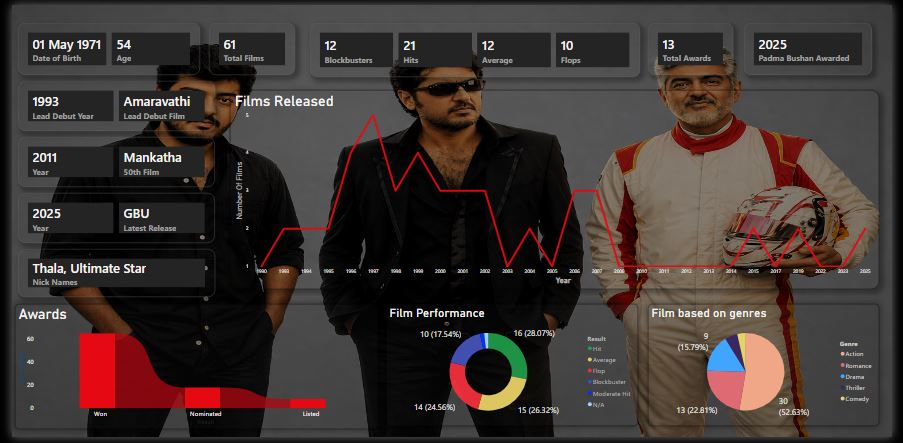

This screenshot's page, from the dashboard's own definition file:
{"tool":"powerbi","page":{"name":"Page 1","canvas":[2200,1080],"ordinal":0},"visuals":[{"type":"cardVisual","fields":{"Data":["Min(Bio.Lead Debut Year)","Min(Bio.Lead Debut Film)"]},"box":[15,190,492.5,125],"z":0},{"type":"cardVisual","fields":{"Data":["Min(Bio.Nicknames)"]},"box":[15,610,492.5,120],"z":1000},{"type":"cardVisual","fields":{"Data":["Sum(Bio.Total Films (approx))"]},"box":[492.5,45,215,130],"z":2000},{"type":"lineChart","title":"Films Released","fields":{"Category":["Filmography.Year"],"Y":["CountNonNull(Filmography.Film_Number)"]},"box":[545,212.5,1622.5,497.5],"z":3000},{"type":"pieChart","title":"Film based on genres","fields":{"Category":["Filmography.Genre"],"Y":["CountNonNull(Filmography.Film_Number)"]},"box":[1590,747.5,577.5,305],"z":4000},{"type":"donutChart","title":"Film Performance","fields":{"Category":["Filmography.Result"],"Y":["CountNonNull(Filmography.Film_Number)"]},"box":[935,747.5,630,305],"z":5000},{"type":"cardVisual","fields":{"Data":["Min(Bio.Padma Bhushan Year)"]},"box":[1830,45,320,130],"z":6000},{"type":"cardVisual","fields":{"Data":["Min(50th film.Year)","Min(50th film.Title)"]},"box":[15,330,492,125],"z":7000},{"type":"ribbonChart","title":"Awards","fields":{"Category":["Awards.Result"],"Y":["Sum(Awards.Index)"]},"box":[7.5,747.5,907.5,312.5],"z":8000},{"type":"cardVisual","fields":{"Data":["Count(Awards.Index)"]},"box":[1590,45,212.5,130],"z":9000},{"type":"cardVisual","fields":{"Data":["Sum(Career_Summary.Blockbusters)","Sum(Career_Summary.Hits)","Sum(Career_Summary.Average)","Sum(Career_Summary.Flops)"]},"box":[745,45,825,135],"z":10000},{"type":"cardVisual","fields":{"Data":["Min(Bio.Date of Birth)","Bio.Age"]},"box":[15,45,455,130],"z":11000},{"type":"cardVisual","fields":{"Data":["Min(latest release.Year)","Min(latest release.Title)"]},"box":[15,470,492,125],"z":12000}]}

Visuals, with their boxes in screenshot pixels (x1, y1, x2, y2), scaled from the page's 2200x1080 canvas onto the 903x443 screenshot:
cardVisual - Min(Bio.Lead Debut Year) x Min(Bio.Lead Debut Film): (x1=6, y1=78, x2=208, y2=129)
cardVisual - Min(Bio.Nicknames): (x1=6, y1=250, x2=208, y2=299)
cardVisual - Sum(Bio.Total Films (approx)): (x1=202, y1=18, x2=290, y2=72)
"Films Released" lineChart: (x1=224, y1=87, x2=890, y2=291)
"Film based on genres" pieChart: (x1=653, y1=307, x2=890, y2=432)
"Film Performance" donutChart: (x1=384, y1=307, x2=642, y2=432)
cardVisual - Min(Bio.Padma Bhushan Year): (x1=751, y1=18, x2=882, y2=72)
cardVisual - Min(50th film.Year) x Min(50th film.Title): (x1=6, y1=135, x2=208, y2=187)
"Awards" ribbonChart: (x1=3, y1=307, x2=376, y2=435)
cardVisual - Count(Awards.Index): (x1=653, y1=18, x2=740, y2=72)
cardVisual - Sum(Career_Summary.Blockbusters) x Sum(Career_Summary.Hits): (x1=306, y1=18, x2=644, y2=74)
cardVisual - Min(Bio.Date of Birth) x Bio.Age: (x1=6, y1=18, x2=193, y2=72)
cardVisual - Min(latest release.Year) x Min(latest release.Title): (x1=6, y1=193, x2=208, y2=244)
